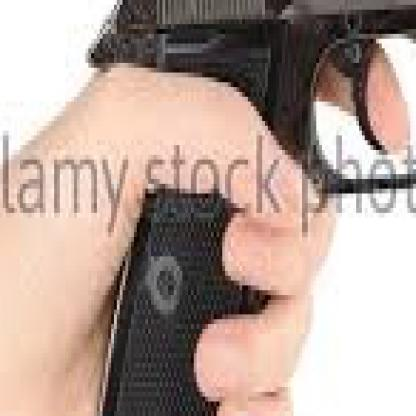gun: (91, 0, 413, 411)
